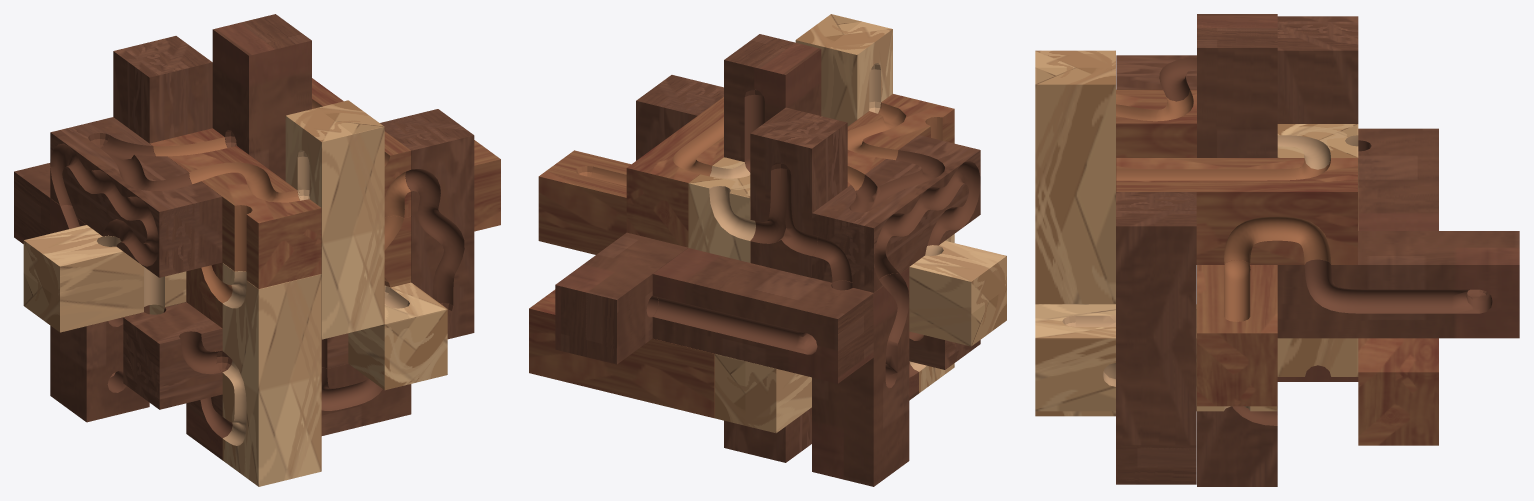
File: puzzle.glb
3 renders of one model, left to right at view 1: azimuth 30°, elevation 25°; view 2: azimuth 150°, elevation 25°; view 3: azimuth 270°, elevation 25°, orthographic. The views are drawn at different scales.
Parts seen in each view (by area): view 1: geo.020, geo.019, geo.016, geo.017, geo.015, geo.002, geo.004, geo.011, geo.007, geo.006, geo.008, geo.010 (+4 smaller); view 2: geo.018, geo.019, geo.006, geo.007, geo.014, geo.001, geo.004, geo.002, geo.013, geo.005, geo.016, geo.012 (+6 smaller); view 3: geo.014, geo.015, geo.016, geo.013, geo.002, geo.005, geo.008, geo.007, geo.001, geo.018, geo.003, geo (+5 smaller).
Boxes of the visible parts, x1,y1,x2,y2 form: geo.020: (222, 263, 321, 486); geo.019: (50, 117, 222, 277); geo.016: (285, 100, 384, 339); geo.017: (150, 128, 321, 288); geo.015: (380, 109, 474, 339); geo.002: (212, 14, 311, 181); geo.004: (23, 225, 186, 332); geo.011: (123, 302, 348, 409); geo.007: (113, 36, 212, 143); geo.006: (50, 198, 149, 422); geo.008: (348, 282, 447, 390); geo.010: (186, 364, 411, 460); geo.018: (652, 248, 873, 383); geo.019: (812, 135, 980, 292); geo.006: (812, 267, 909, 486); geo.007: (750, 107, 847, 277); geo.014: (555, 232, 687, 364); geo.001: (529, 289, 714, 418); geo.004: (909, 241, 1006, 346); geo.002: (724, 34, 821, 172); geo.013: (626, 97, 723, 247); geo.005: (538, 150, 630, 254); geo.016: (795, 14, 892, 126); geo.012: (714, 354, 811, 433); geo.014: (1277, 231, 1519, 338); geo.015: (1116, 192, 1196, 445); geo.016: (1035, 50, 1115, 303); geo.013: (1116, 158, 1357, 264); geo.002: (1197, 14, 1277, 157); geo.005: (1197, 260, 1277, 406); geo.008: (1035, 304, 1277, 411); geo.007: (1277, 16, 1358, 123); geo.001: (1358, 338, 1438, 445); geo.018: (1358, 128, 1438, 230); geo.003: (1197, 406, 1277, 486); geo: (1277, 124, 1358, 376).
Size of the model in its own units: 0.2798 by 0.2398 by 0.2398.
4 materials, 4 textured.
